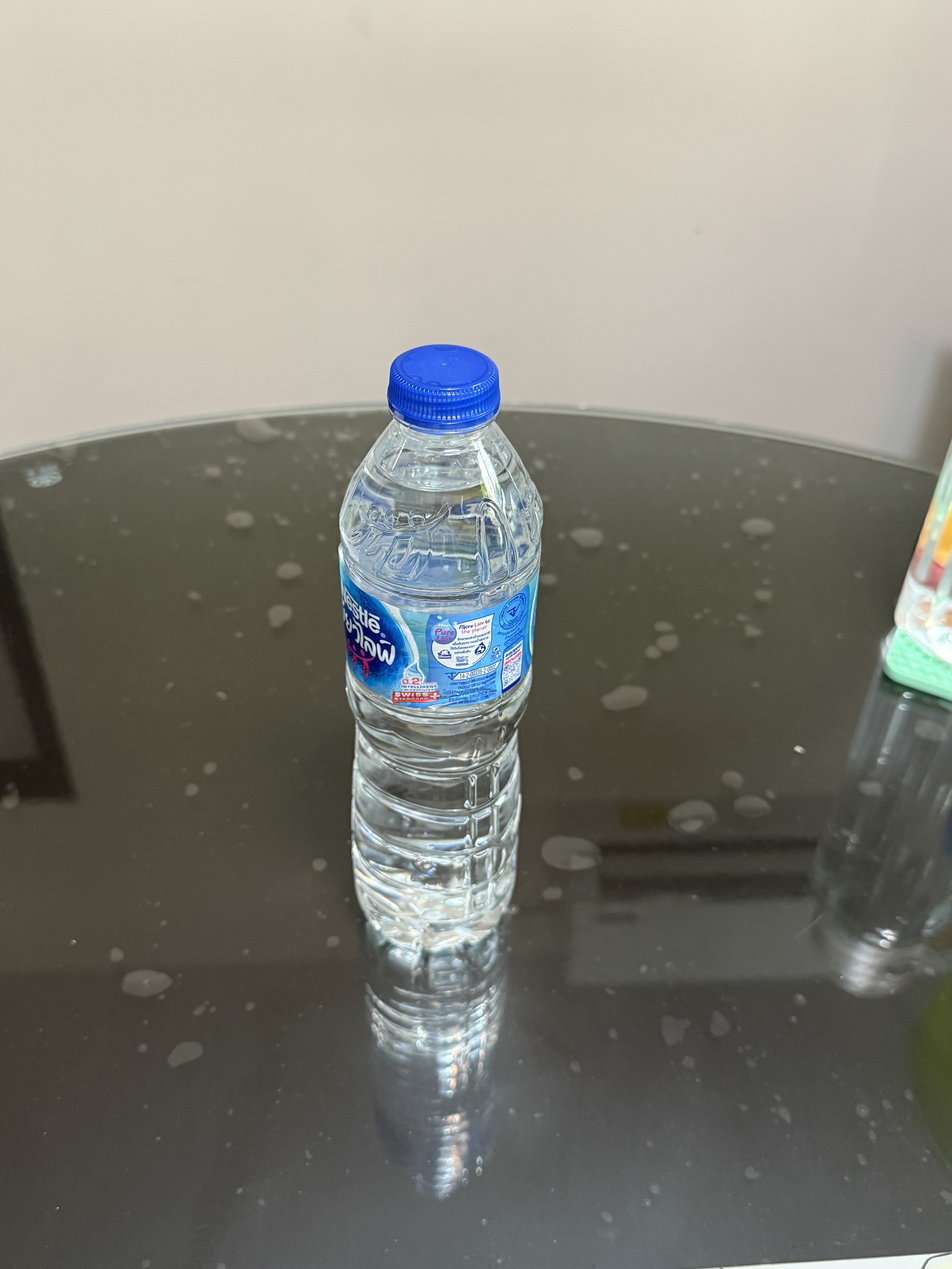closed_cap: (385, 341, 502, 432)
